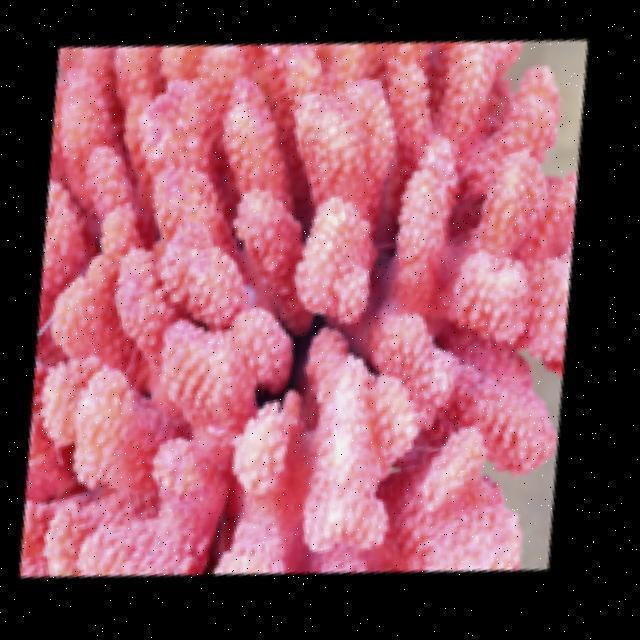Healthy Coral: (53, 32, 531, 562)
